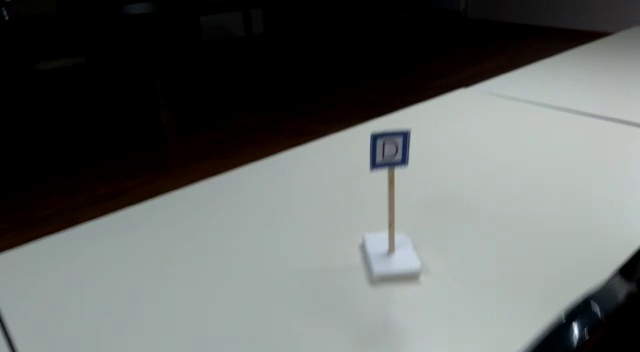durak: (371, 132, 408, 168)
